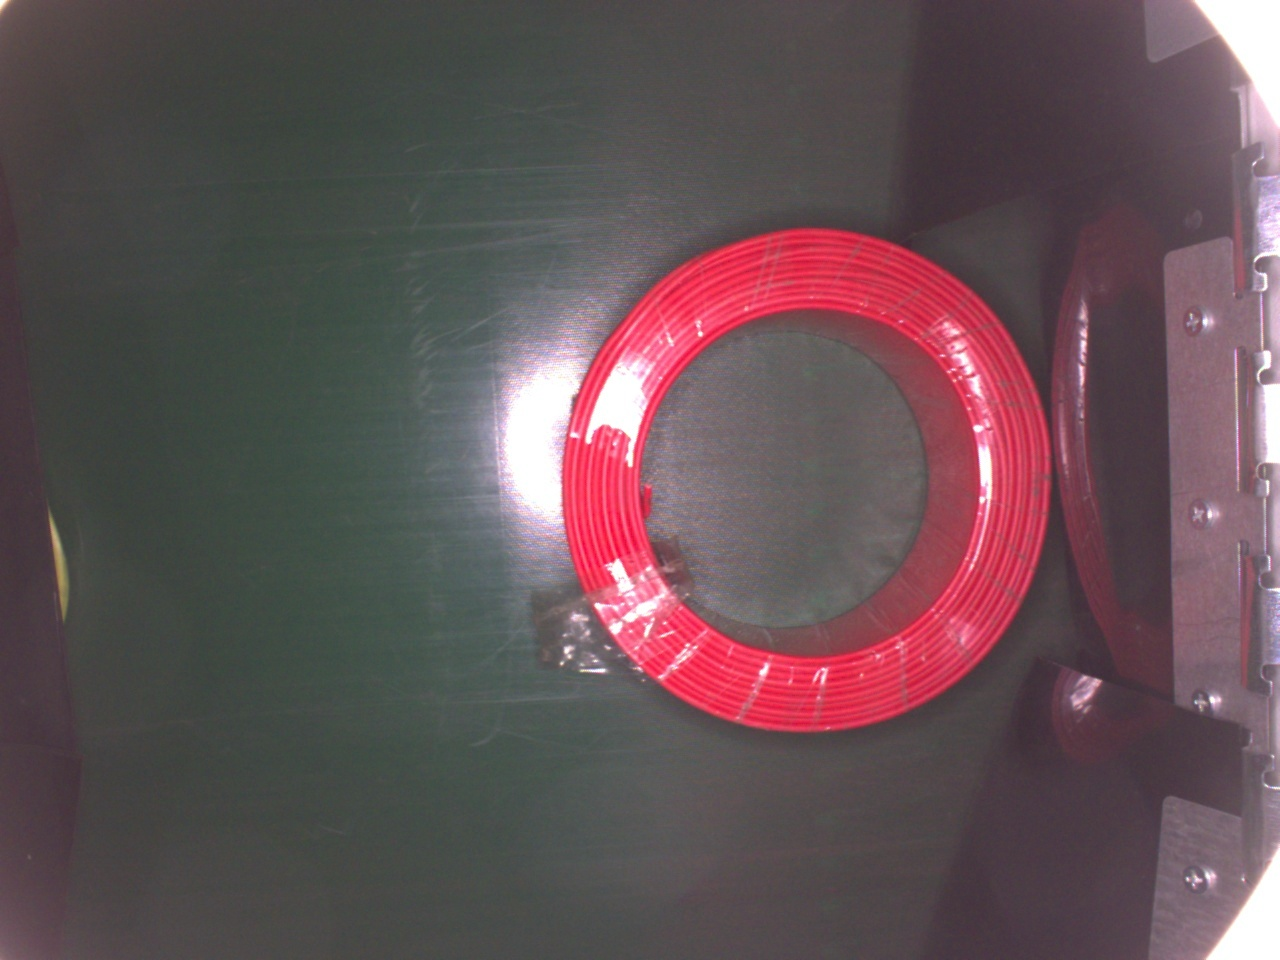red: (563, 224, 1046, 734)
